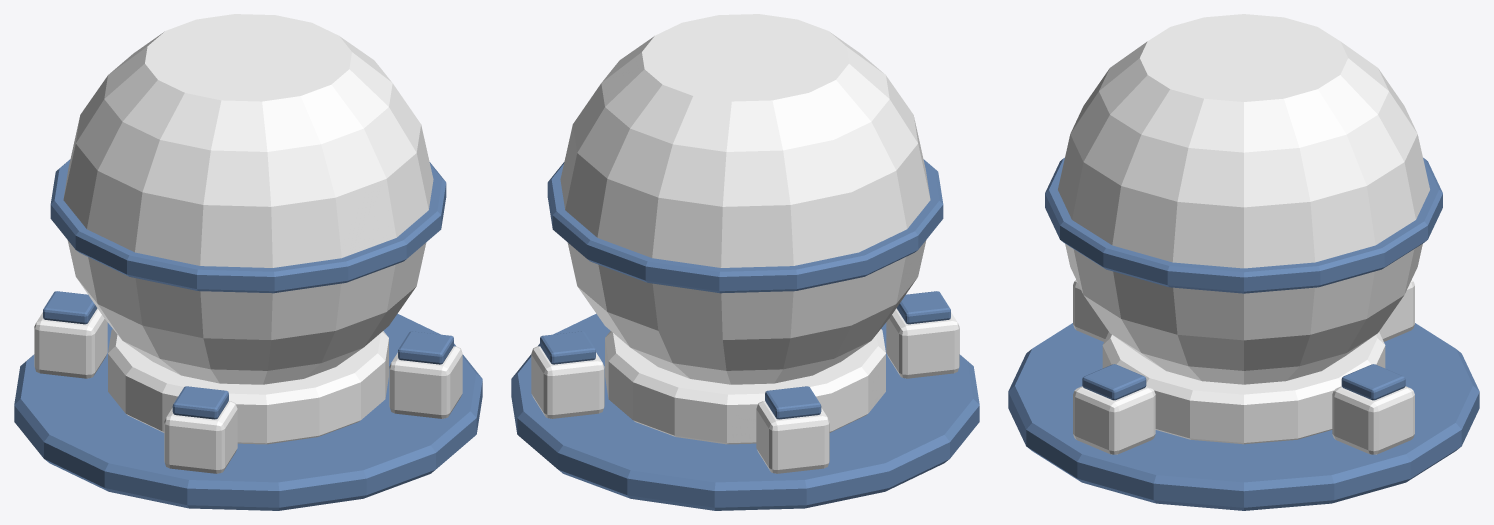
Rendered from cdn.glb.
The picture shows the model from 3 angles, left to right: view 1: azimuth 30°, elevation 25°; view 2: azimuth 150°, elevation 25°; view 3: azimuth 270°, elevation 25°; orthographic projection.
Visible parts, largest first — view 1: globe, base, cradle, equator, edge-node.0, edge-node.3, edge-node.2, edge-cap.3, edge-cap.0, edge-cap.2; view 2: globe, base, cradle, equator, edge-node.1, edge-node.2, edge-node.3, edge-cap.2, edge-cap.1, edge-cap.3; view 3: globe, base, cradle, equator, edge-node.0, edge-node.1, edge-cap.0, edge-cap.1, edge-node.2, edge-node.3.
Part boxes in pixels (x1,y1,x2,y2): globe: (63, 14, 433, 384); base: (14, 313, 482, 510); cradle: (108, 329, 388, 444); equator: (50, 159, 446, 293); edge-node.0: (389, 346, 462, 418); edge-node.3: (164, 401, 237, 473); edge-node.2: (34, 308, 107, 378); edge-cap.3: (172, 386, 228, 419); edge-cap.0: (398, 331, 453, 364); edge-cap.2: (43, 291, 97, 324); globe: (560, 14, 930, 384); base: (511, 313, 979, 510); cradle: (605, 329, 885, 444); equator: (547, 159, 943, 293); edge-node.1: (531, 346, 604, 418); edge-node.2: (756, 401, 829, 473); edge-node.3: (886, 308, 959, 378); edge-cap.2: (765, 386, 821, 419); edge-cap.1: (540, 331, 595, 364); edge-cap.3: (896, 291, 950, 324); globe: (1058, 14, 1429, 384); base: (1008, 323, 1479, 510); cradle: (1102, 332, 1385, 444); equator: (1045, 157, 1442, 293); edge-node.0: (1073, 386, 1155, 454); edge-node.1: (1332, 386, 1414, 454); edge-cap.0: (1082, 364, 1146, 400); edge-cap.1: (1341, 364, 1405, 400); edge-node.2: (1379, 280, 1414, 341); edge-node.3: (1073, 280, 1108, 341).
Bounding box in the file's own units: 1.8 × 1.5 × 1.8.
